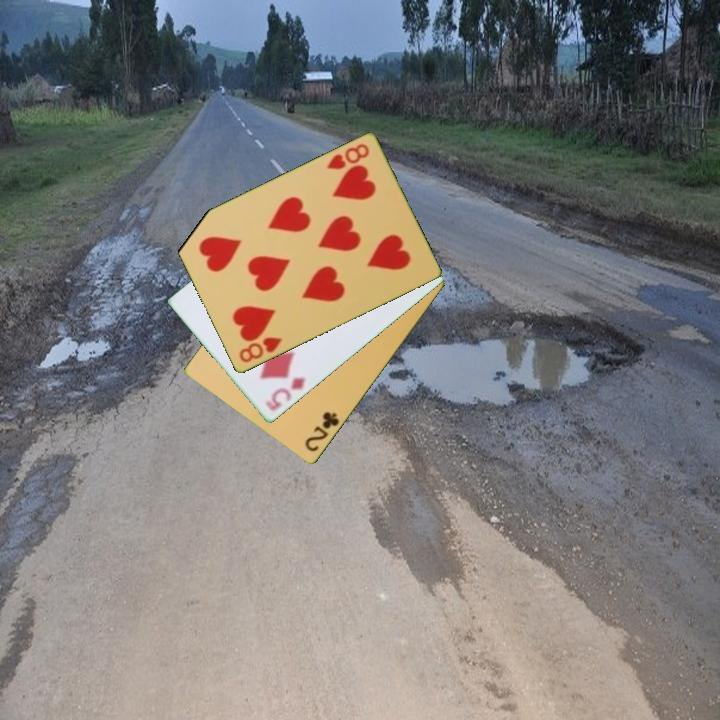2c: (301, 408, 342, 455)
5d: (261, 374, 308, 414)
8h: (323, 140, 372, 173), (235, 334, 285, 366)
